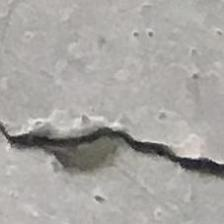Crack: (0, 109, 224, 201)
